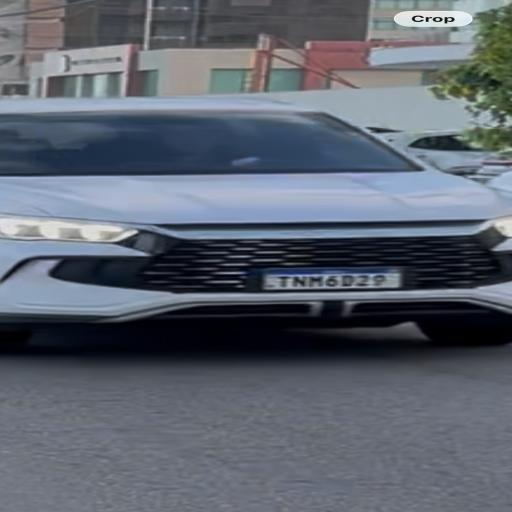detec-o-placas: (255, 260, 416, 304)
